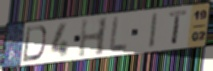4: (48, 21, 72, 59)
D: (21, 24, 48, 63)
H: (76, 16, 109, 60)
I: (148, 11, 160, 49)
L: (108, 16, 128, 53)
T: (168, 9, 189, 46)
